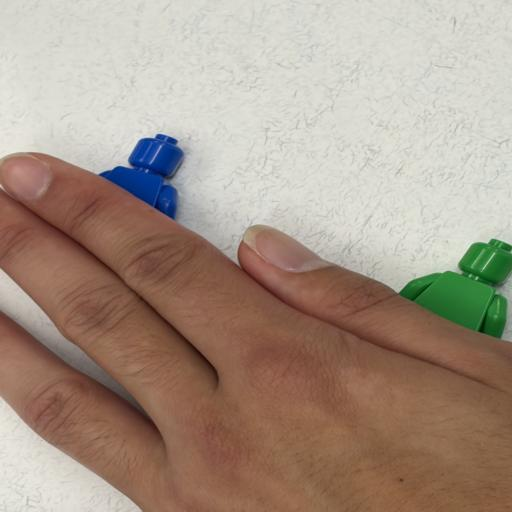Blue-Lego: (99, 133, 185, 219)
Green-Lego: (399, 238, 512, 338)
